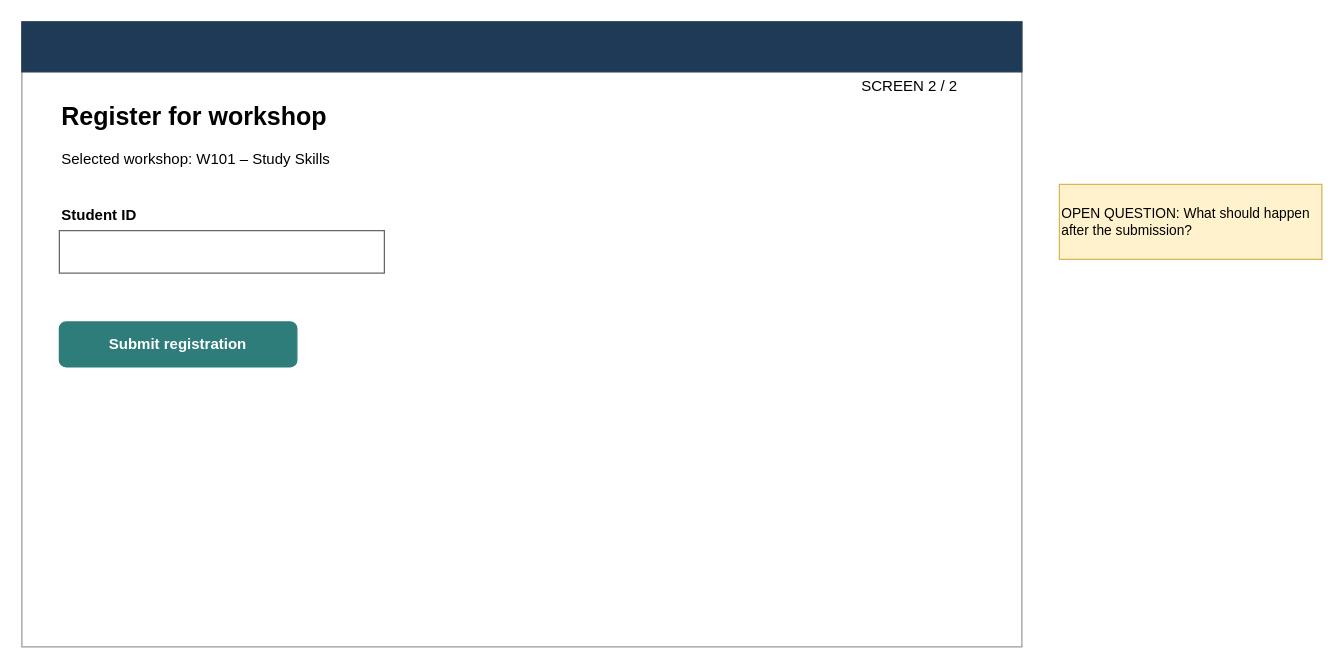
This 1344x669 diagram has some shape labels left out. The shapes that lost their labels are listed below. From the top down, each one's centre as x and y in pixels, then its label:
At (x=521, y=46): "Campus workshops • Student registration".
At (x=221, y=251): "[Enter student ID]".
